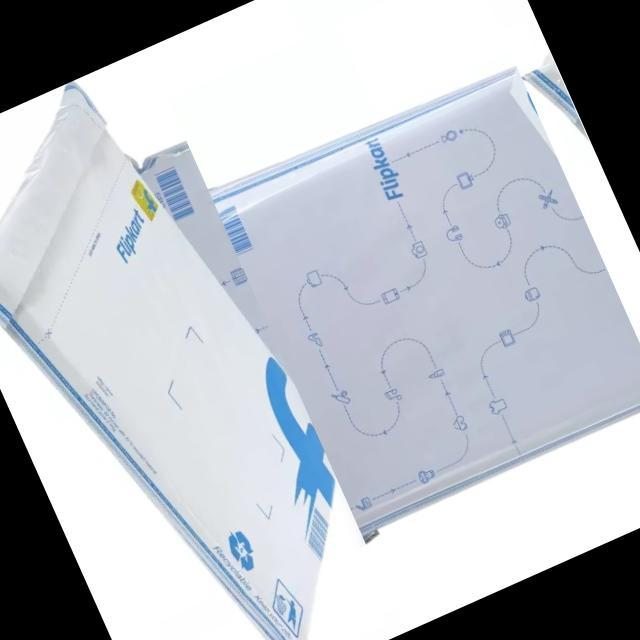cardboxes: (135, 0, 640, 633), (0, 47, 405, 640)
